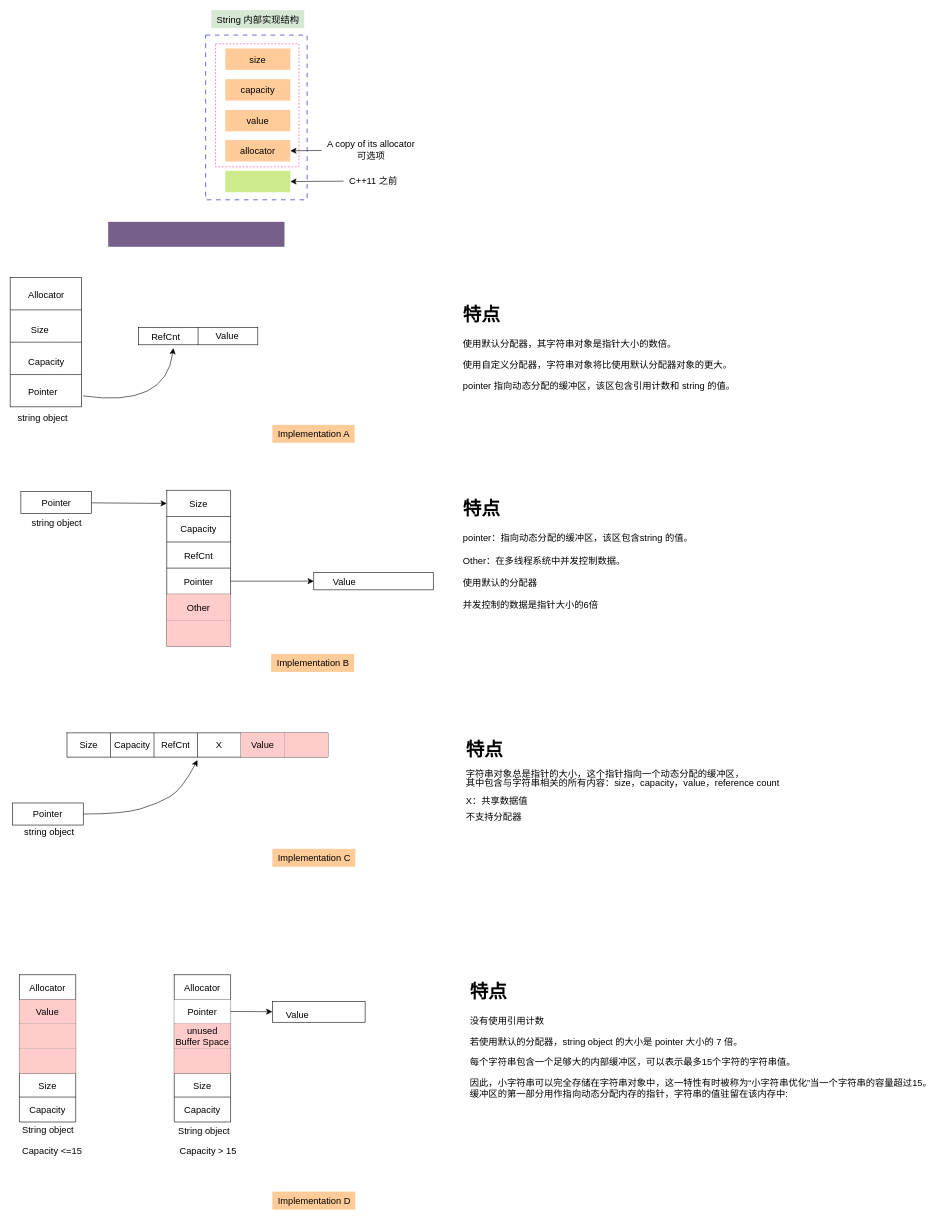
The diagram is 950 pixels wide and 1219 high, and some of its shapes have lost their labels. Each missing label, with the centre of its shape:
"reference count" belongs at pixel 257 181.
"String 的实现有 4 种方式" belongs at pixel 196 234.
